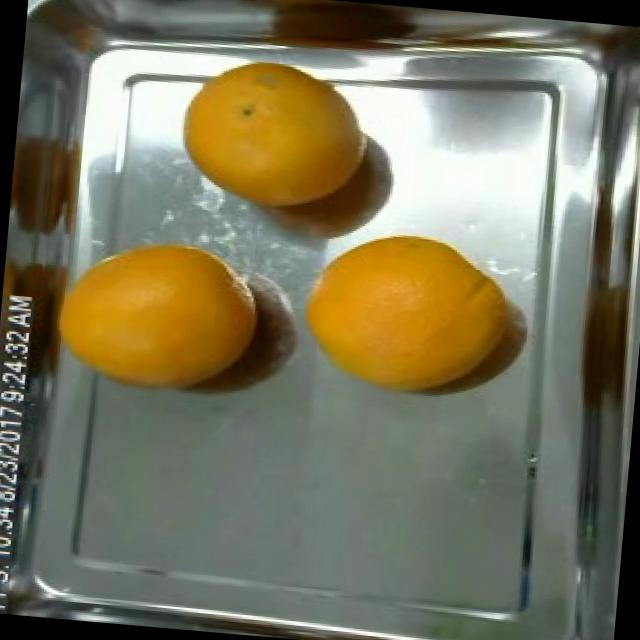Fruit: (152, 52, 386, 235)
